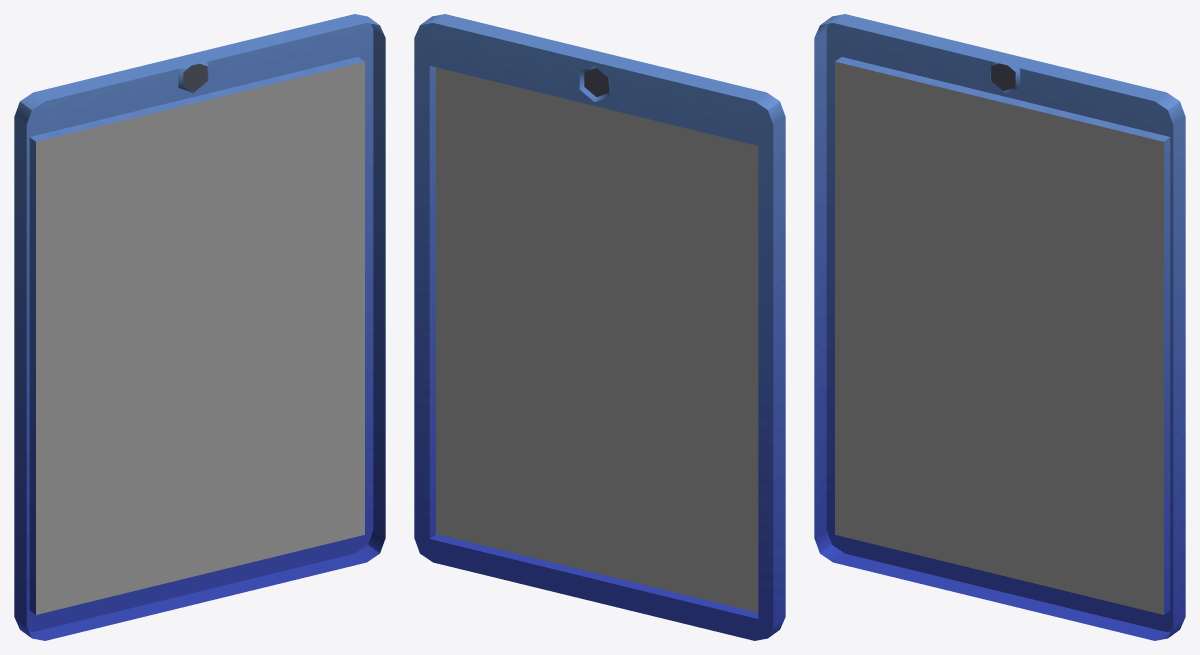
Rendered from SM_IPAD.fbx.
The picture shows the model from 3 angles, left to right: view 1: azimuth 30°, elevation 25°; view 2: azimuth 150°, elevation 25°; view 3: azimuth 330°, elevation 25°; orthographic projection.
Visible parts, largest first — view 1: IPAD; view 2: IPAD; view 3: IPAD.
Boxes of the visible parts, box(x1,y1,x2,y2) form: IPAD: box(14, 14, 385, 640); IPAD: box(414, 14, 785, 640); IPAD: box(814, 14, 1185, 640).
Bounding box in the file's own units: 96.73 × 139 × 5.64.
Materials: 2 (1 with a texture image).
